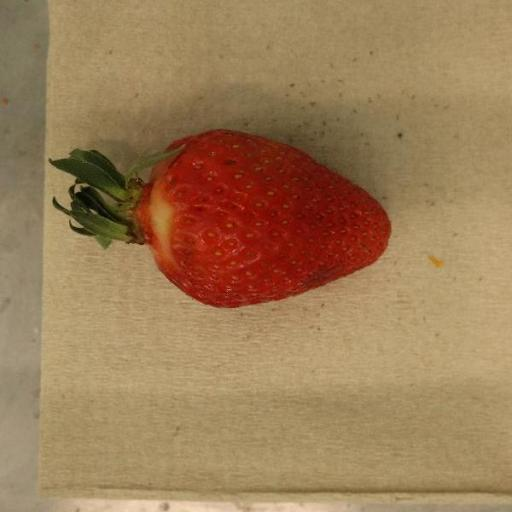Strawberry: (51, 130, 393, 308)
